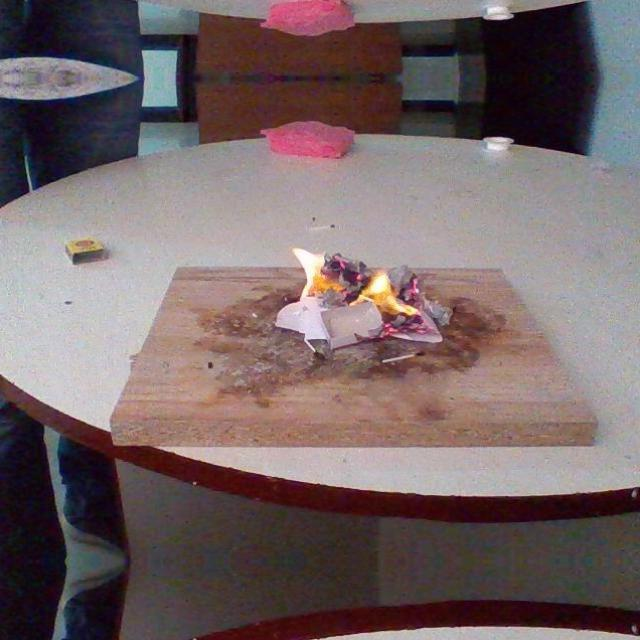smoke: (362, 270, 422, 316), (294, 246, 328, 300)
